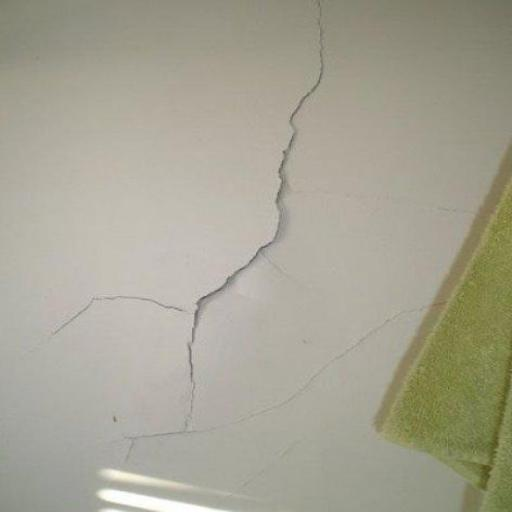spalling: (183, 19, 337, 423), (123, 327, 383, 442), (48, 288, 182, 340)
